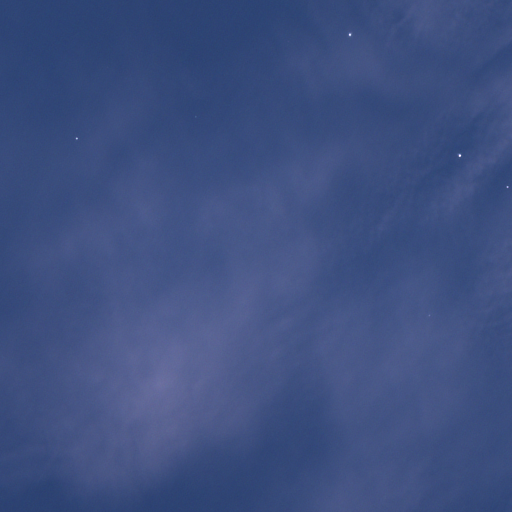Iceberg: (457, 153, 461, 156), (349, 33, 351, 36), (506, 186, 508, 188), (76, 137, 77, 139), (428, 314, 429, 316)
